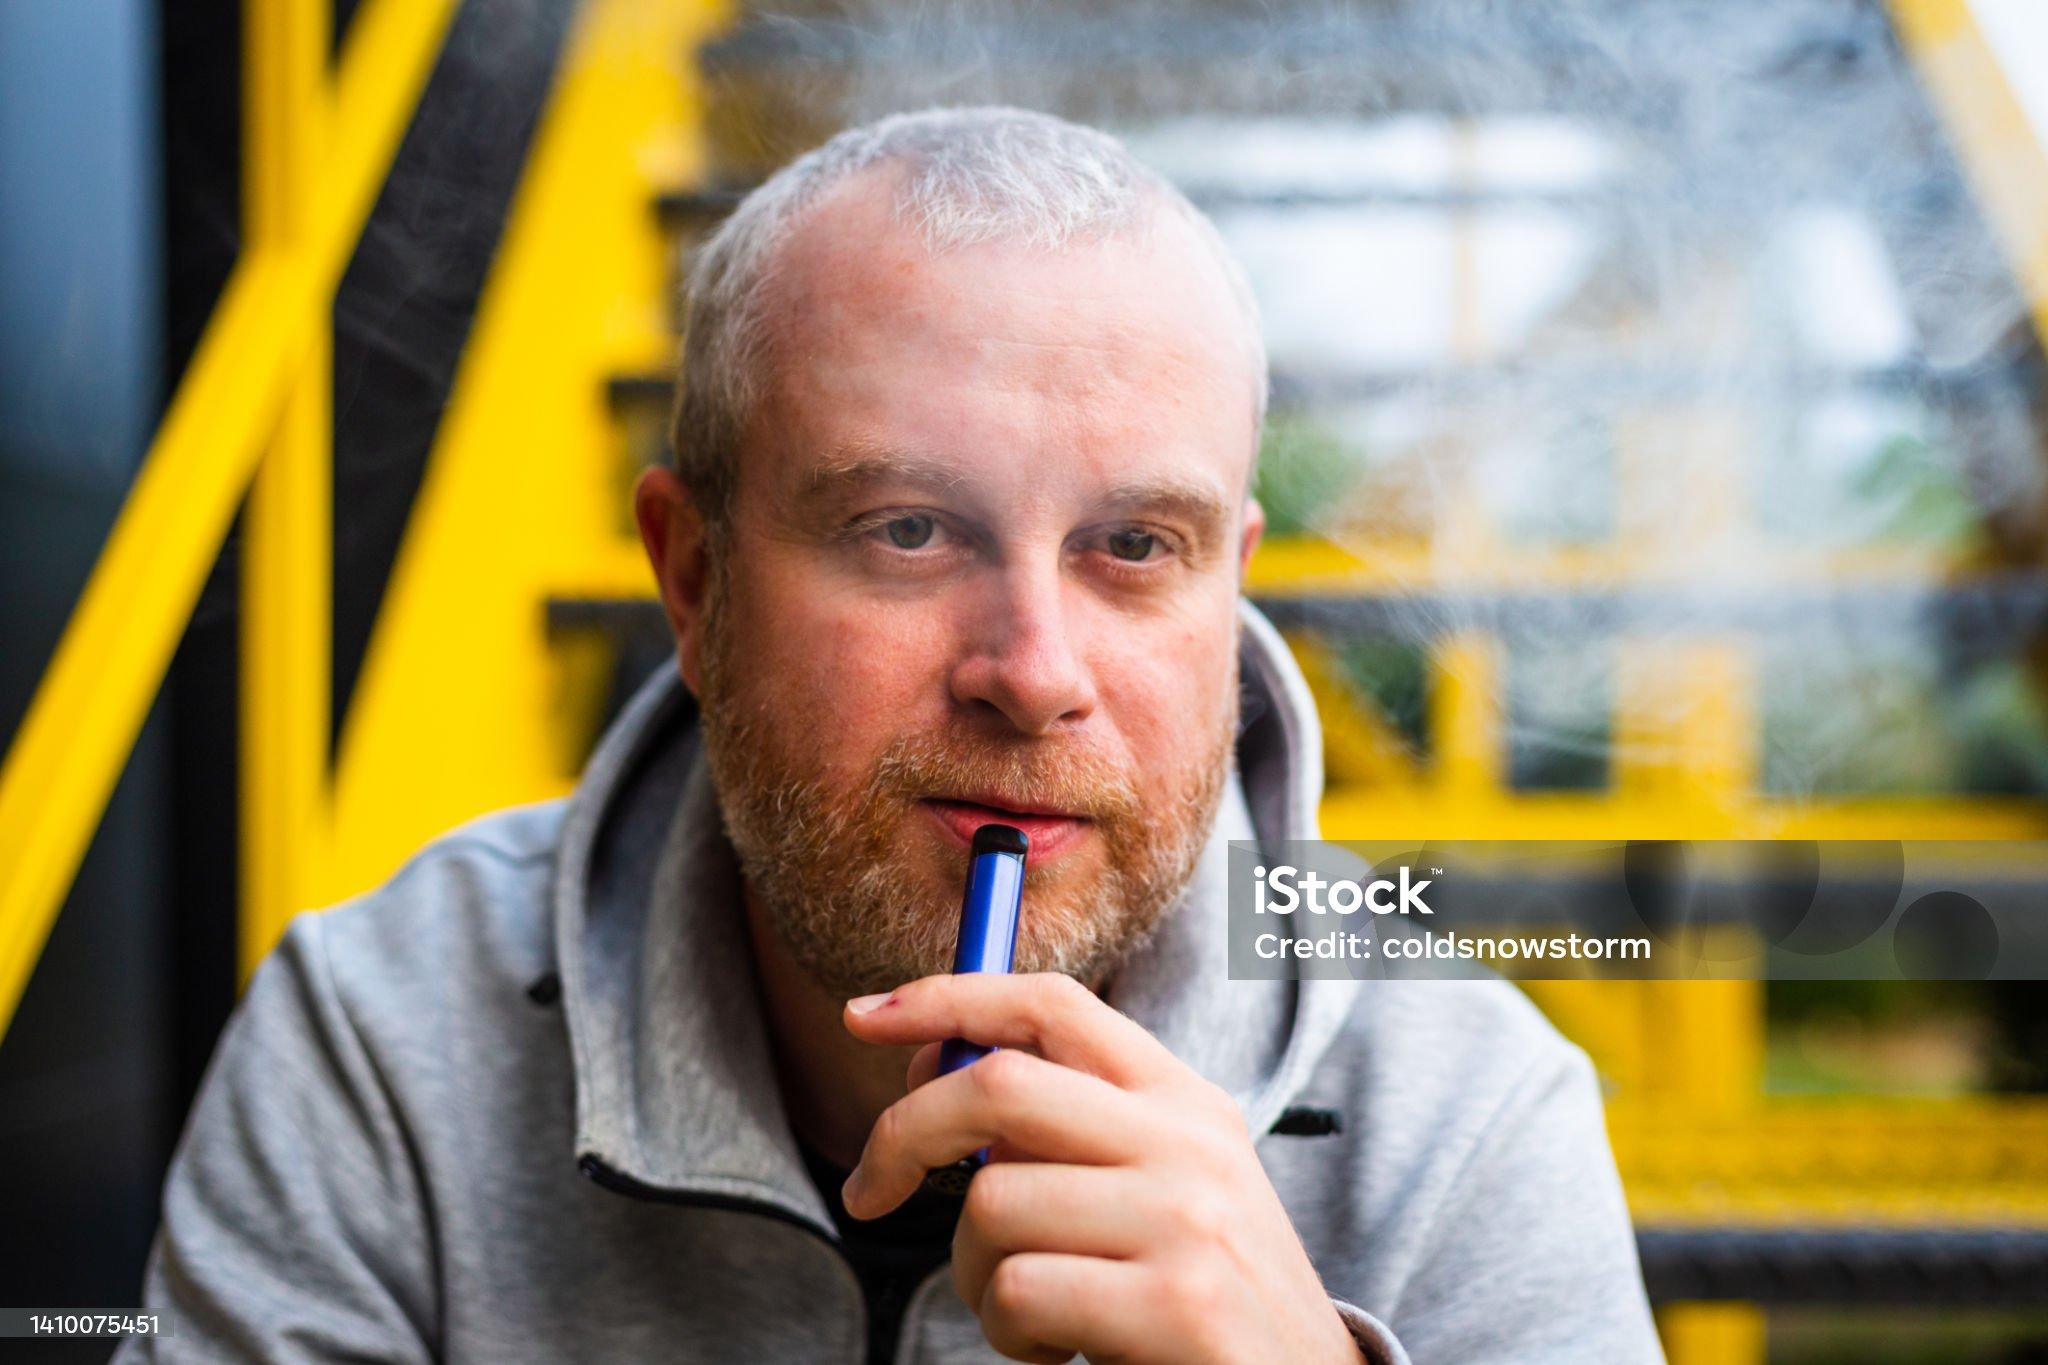Vape: (927, 821, 1028, 1196)
